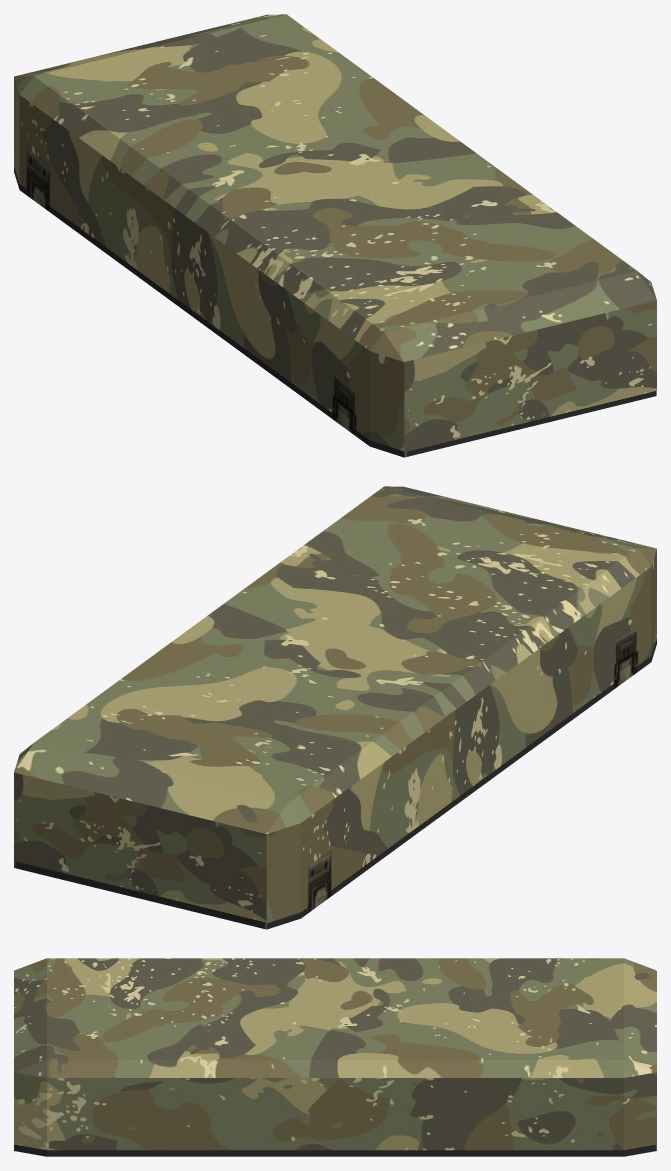
File: chest-top.glb
3 renders of one model, top to bottom at view 1: azimuth 30°, elevation 25°; view 2: azimuth 150°, elevation 25°; view 3: azimuth 270°, elevation 25°, orthographic. The views are drawn at different scales.
Parts seen in each view (by area): view 1: chest.001; view 2: chest.001; view 3: chest.001.
Part boxes in pixels (left/top/right/bottom): chest.001: left=14, top=14, right=656, bottom=457; chest.001: left=14, top=486, right=656, bottom=929; chest.001: left=14, top=958, right=656, bottom=1156.
Size of the model in its own units: 1 by 0.3752 by 2.4.
1 material, 1 textured.
